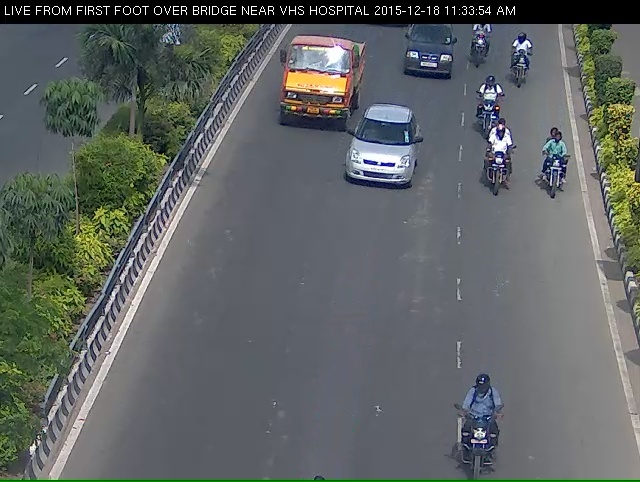Bus: (274, 46, 356, 135)
Car: (346, 117, 428, 211), (396, 22, 460, 90)
Person: (443, 412, 507, 482), (537, 135, 582, 210), (480, 139, 519, 222), (506, 47, 545, 96), (475, 87, 505, 145), (469, 25, 495, 76)
